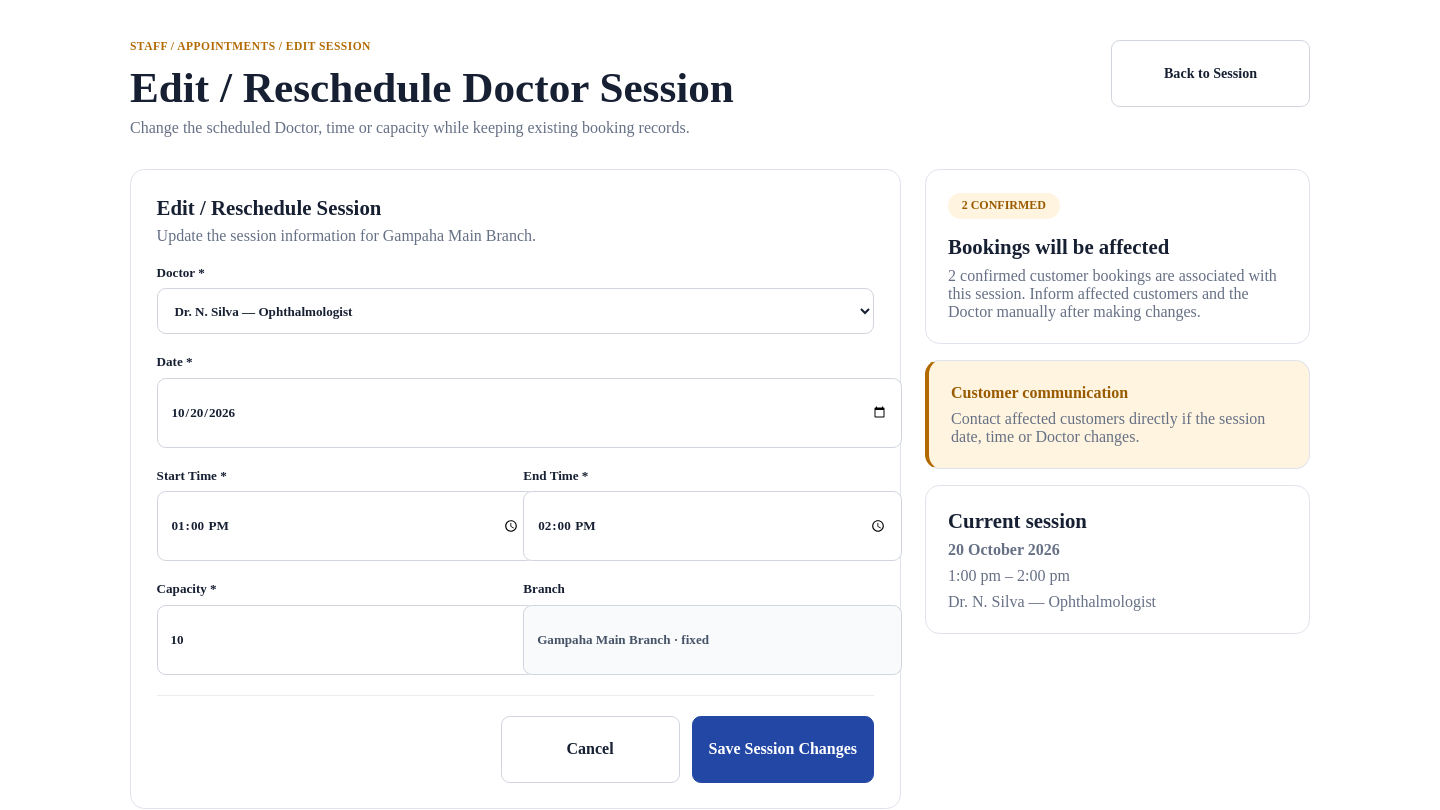
it: StaffEditDoctorSessionPage › shows the confirmation modal before saving changes
Expected: the heading "Edit / Reschedule Doctor Session" is shown, [130,63,734,112]
Replace the text in the number field labelled "Capacity *" with "12". click: (346, 640)
box: [157,605,535,675]
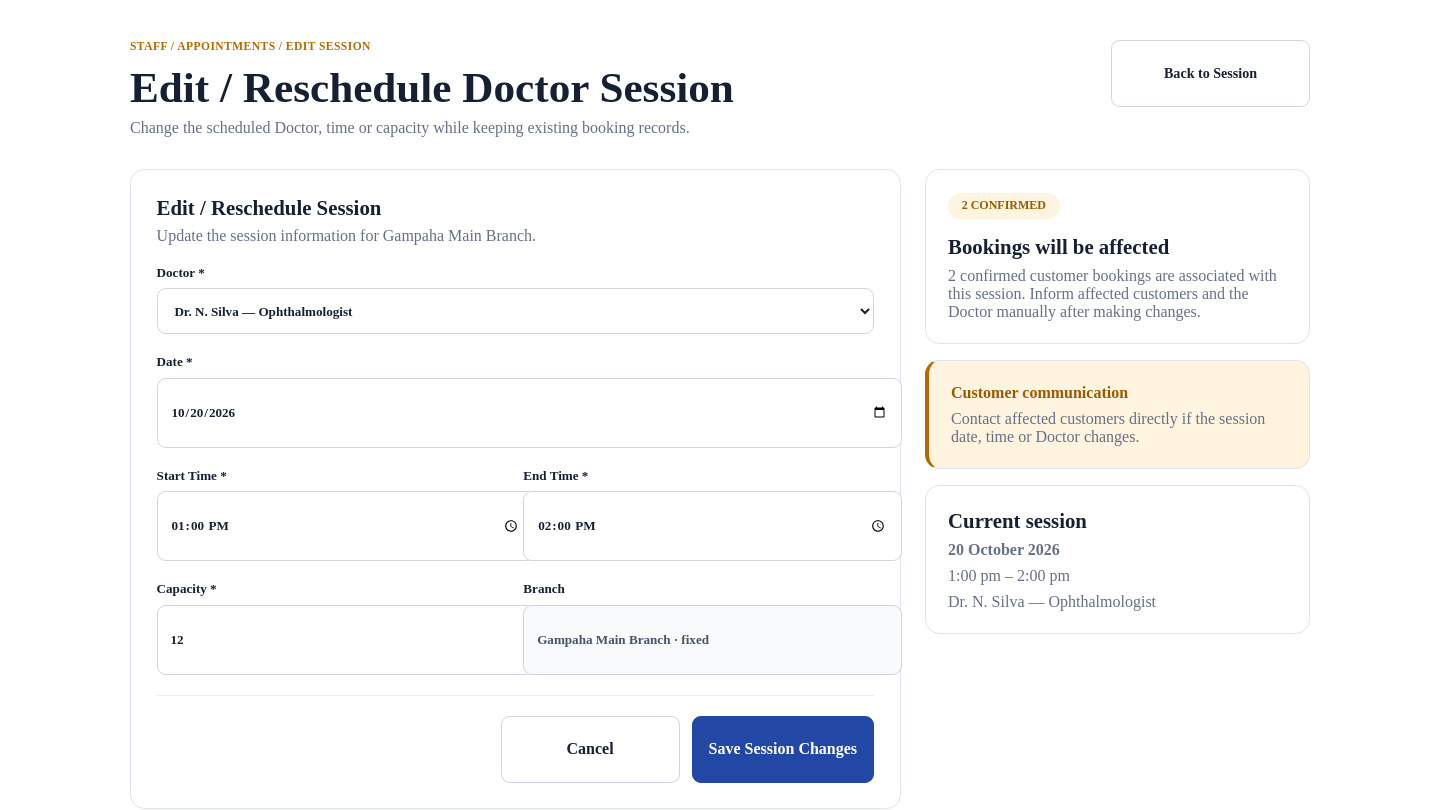
Click the button "Save Session Changes". click: (783, 749)
box: [692,716,874,783]
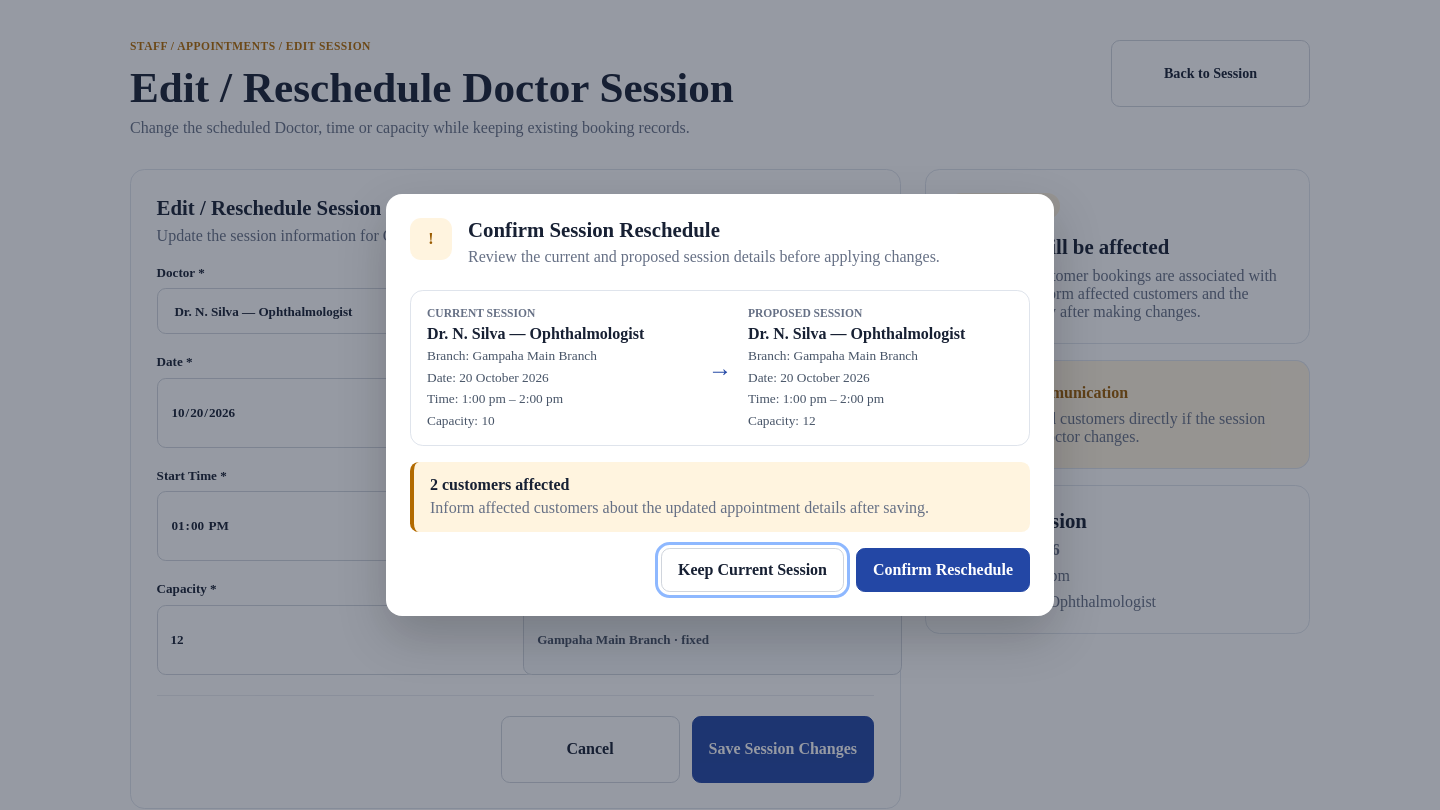
Expected: the dialog "Confirm Session Reschedule" is shown, [386,194,1054,616]
